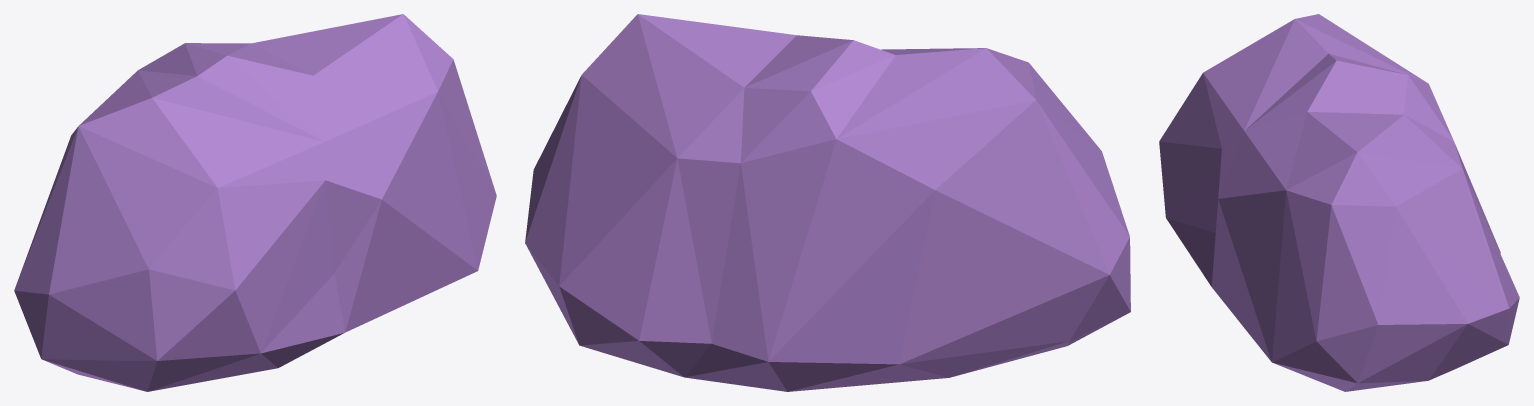
File: boulder3.fbx
3 renders of one model, left to right at view 1: azimuth 30°, elevation 25°; view 2: azimuth 150°, elevation 25°; view 3: azimuth 270°, elevation 25°, orthographic. The views are drawn at different scales.
Visible parts, largest first — view 1: boulder2; view 2: boulder2; view 3: boulder2.
Part boxes in pixels (box(x1,y1,x2,y2)): boulder2: box(14, 14, 496, 391); boulder2: box(525, 14, 1130, 391); boulder2: box(1159, 14, 1519, 391).
Bounding box in the file's own units: 875 × 468 × 628.
